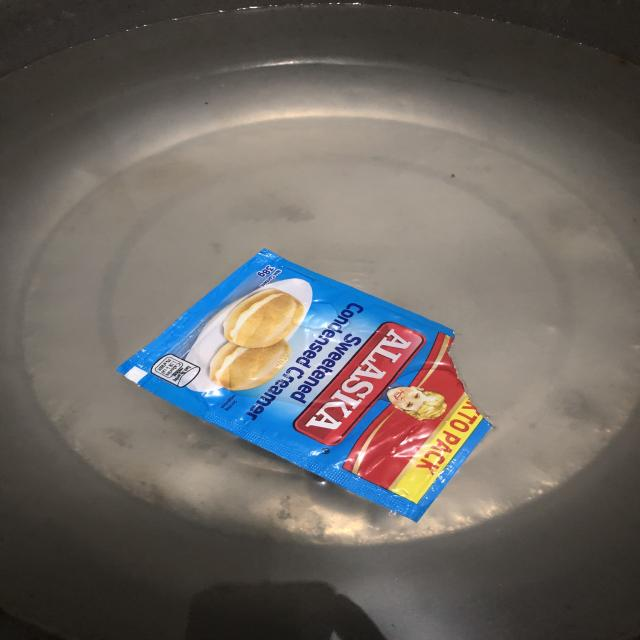Plastic Wrapper: (117, 249, 491, 521)
